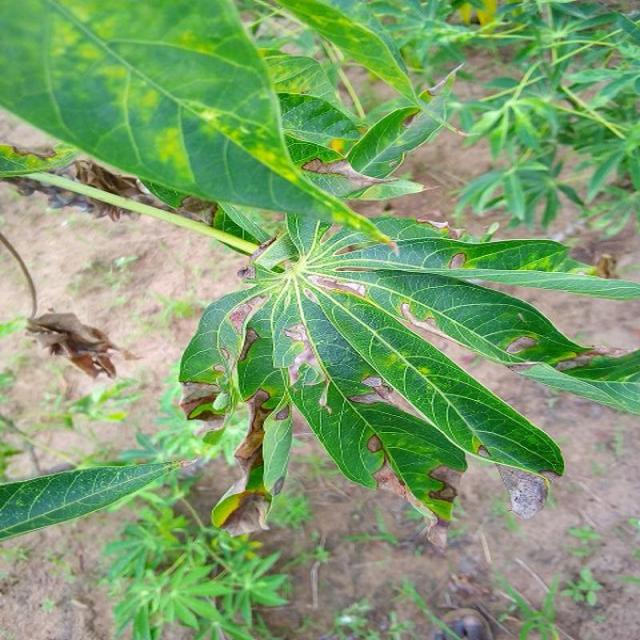cassava leaf: (2, 0, 640, 539), (180, 209, 638, 531), (1, 0, 402, 250)
